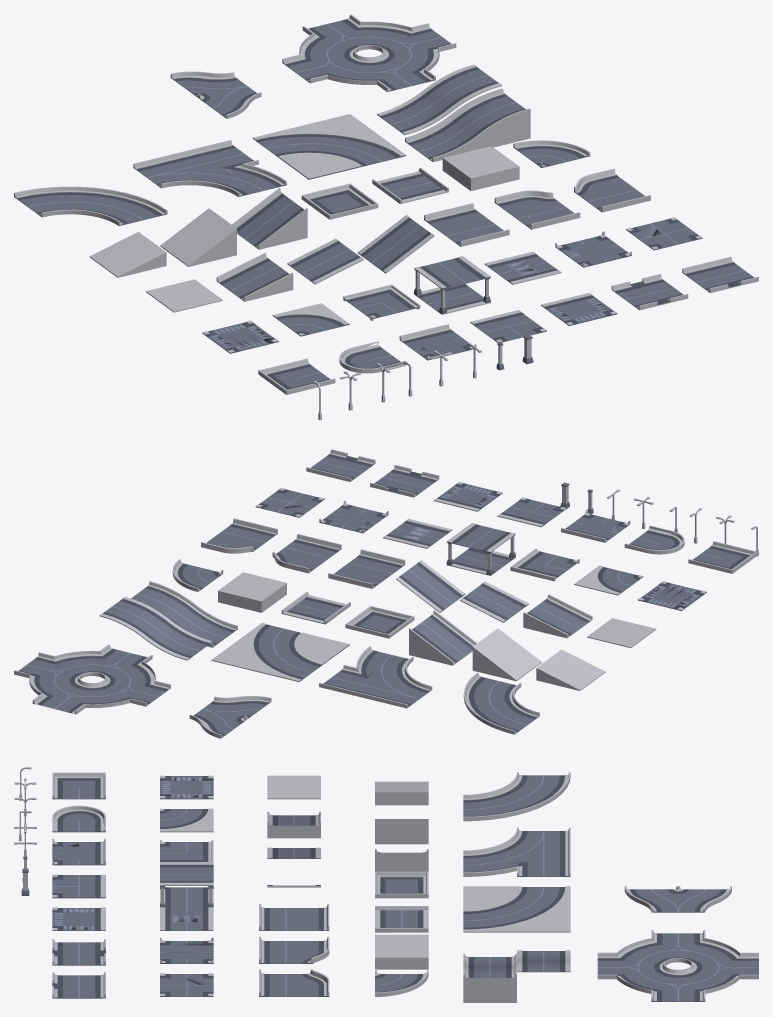
Rendered from Modular Road Kit.glb.
3 renders of one model, top to bottom at view 1: azimuth 30°, elevation 25°; view 2: azimuth 150°, elevation 25°; view 3: azimuth 270°, elevation 25°, orthographic. The views are drawn at different scales.
Visible parts, largest first — view 1: road_roundabout, road_curvePavement, road_slantCurve, road_curveIntersection, road_curve, road_slantFlat.001, road_bridge, road_slantHigh, tile_slantHigh, road_splitBarrier, tile_high, road_slant (+23 smaller); view 2: road_roundabout, road_curvePavement, road_curveIntersection, road_slantFlat.001, road_curve, road_slantCurve, road_bridge, road_slantHigh, tile_slantHigh, road_splitBarrier, tile_high, road_slant (+23 smaller); view 3: road_roundabout, road_curvePavement, road_curveIntersection, road_curve, road_slantCurve, road_bridge, road_splitBarrier, tile_high, road_sideExit, road_side, road_sideEntry, road_square (+22 smaller).
Part boxes in pixels (x1,y1,x2,y2): road_roundabout: (282, 14, 456, 91); road_curvePavement: (252, 114, 406, 179); road_slantCurve: (405, 88, 530, 162); road_curveIntersection: (133, 140, 286, 196); road_curve: (14, 186, 167, 225); road_slantFlat.001: (377, 64, 502, 135); road_bridge: (414, 256, 490, 314); road_slantHigh: (232, 188, 307, 249); tile_slantHigh: (160, 208, 236, 266); road_splitBarrier: (170, 71, 261, 118); tile_high: (442, 146, 519, 190); road_slant: (216, 252, 293, 301); road_roundabout: (14, 644, 170, 714); road_curvePavement: (211, 623, 349, 681); road_curveIntersection: (319, 646, 432, 708); road_slantFlat.001: (99, 597, 212, 660); road_curve: (463, 672, 539, 734); road_slantCurve: (131, 581, 237, 647); road_bridge: (446, 523, 515, 575); road_slantHigh: (409, 610, 477, 665); tile_slantHigh: (472, 628, 541, 681); road_splitBarrier: (189, 696, 271, 738); tile_high: (218, 572, 286, 612); road_slant: (523, 594, 592, 638); road_roundabout: (597, 930, 758, 1001); road_curvePavement: (463, 886, 570, 932); road_curveIntersection: (463, 827, 570, 876); road_curve: (463, 772, 570, 821); road_slantCurve: (463, 953, 516, 1002); road_bridge: (160, 862, 213, 907); road_splitBarrier: (624, 886, 731, 912); tile_high: (375, 934, 428, 969); road_sideExit: (259, 969, 329, 996); road_side: (259, 903, 329, 930); road_sideEntry: (259, 936, 329, 963); road_square: (375, 871, 428, 898).
Bounding box in the file's own units: 9.95 × 0.7225 × 13.86.
